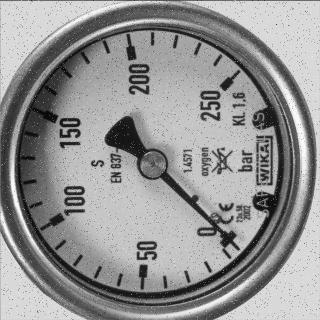gauge: (0, 0, 320, 320), (204, 221, 242, 251), (136, 147, 168, 180), (206, 77, 242, 97), (211, 222, 227, 239)
